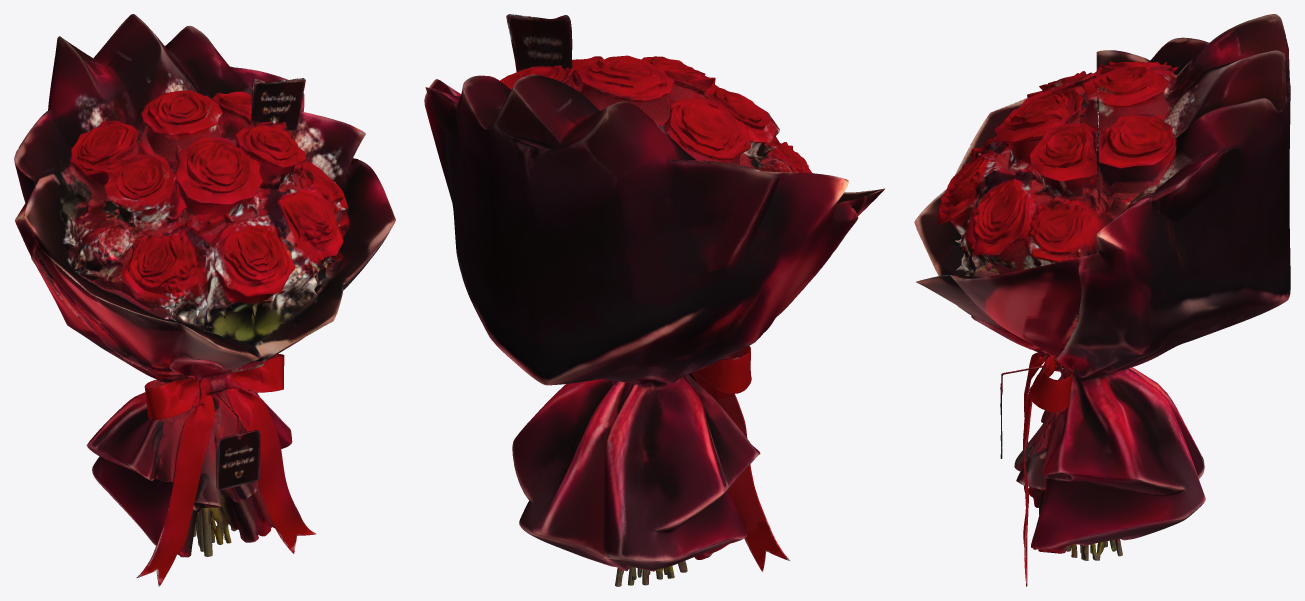
File: bouquet.glb
The picture shows the model from 3 angles, left to right: view 1: azimuth 30°, elevation 25°; view 2: azimuth 150°, elevation 25°; view 3: azimuth 270°, elevation 25°; orthographic projection. The views are drawn at different scales.
Visible parts, largest first — view 1: model; view 2: model; view 3: model.
Part boxes in pixels (box(x1,y1,x2,y2)): model: box(14, 14, 395, 586); model: box(424, 14, 884, 586); model: box(914, 14, 1290, 586).
Size of the model in its own units: 1.46 by 1.9 by 1.26.
1 material, 1 textured.
